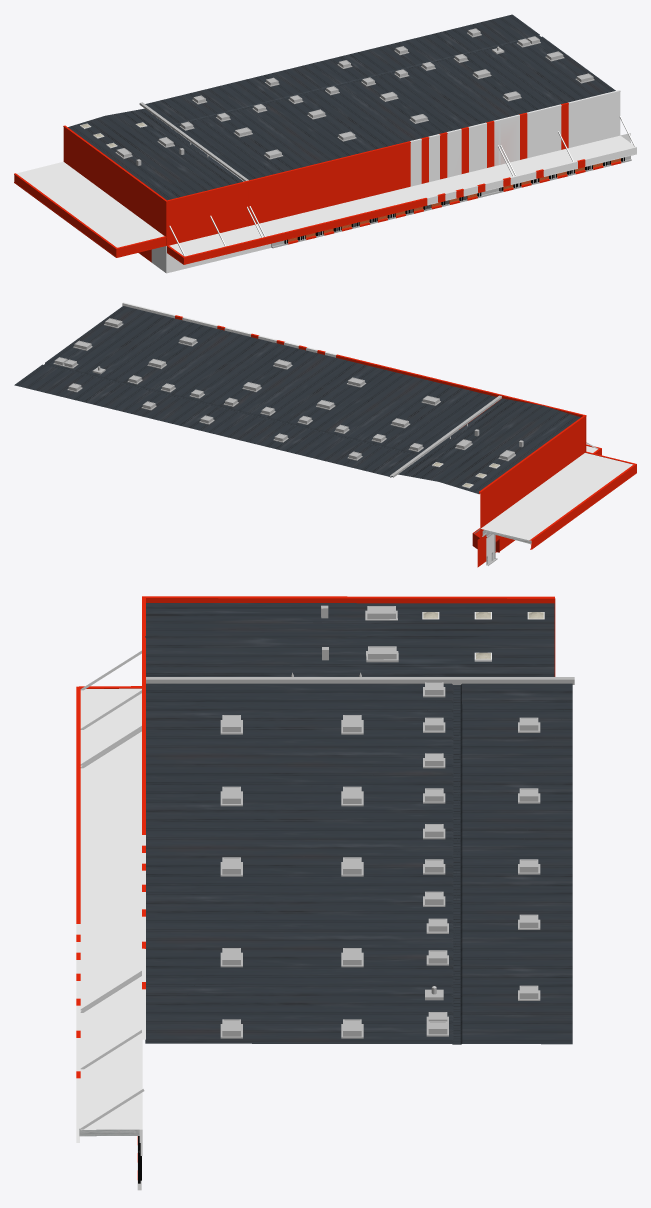
The model's file is SM_TNTBuilding_Part07.fbx.
3 renders of one model, top to bottom at view 1: azimuth 30°, elevation 25°; view 2: azimuth 150°, elevation 25°; view 3: azimuth 270°, elevation 25°, orthographic. The views are drawn at different scales.
Visible parts, largest first — view 1: SM_TNTBuilding_Part07_LOD0; view 2: SM_TNTBuilding_Part07_LOD0; view 3: SM_TNTBuilding_Part07_LOD0.
Part boxes in pixels (x1,y1,x2,y2): SM_TNTBuilding_Part07_LOD0: (14, 14, 636, 273); SM_TNTBuilding_Part07_LOD0: (14, 302, 636, 567); SM_TNTBuilding_Part07_LOD0: (76, 596, 574, 1190).
Size of what is drawn, in the model's own units: 13023 by 1841 by 5465.
